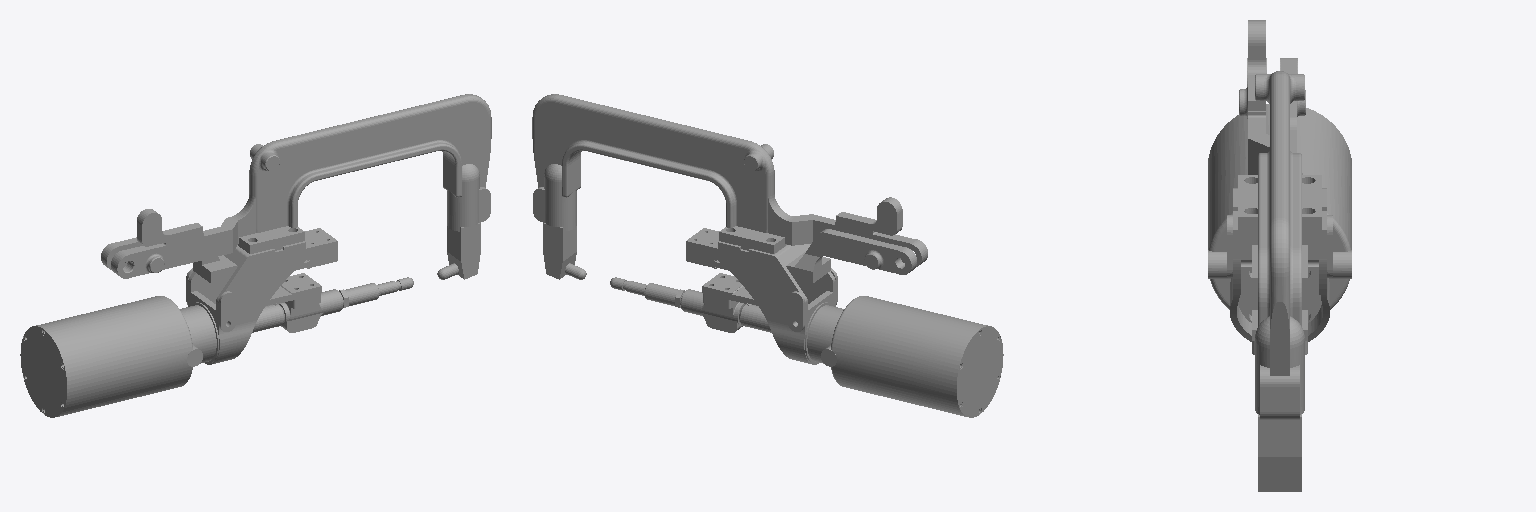
robot.urdf — robot:
<robot name="">
	<link name="base_link">
		<inertial>
			<origin rpy="0.00000 -0.00000 0.00000" xyz="0.00000 0.00000 0.00000" />
			<mass value="1.00000" />
			<inertia ixx="0.03922" ixy="0" ixz="0" iyy="0.07568" iyz="0" izz="0.10640" />
		</inertial>
		<visual>
			<origin rpy="0.00000 -0.00000 0.00000" xyz="0.00000 0.00000 0.00000" />
			<geometry>
				<mesh filename="rlbotics/envs/models/robots/abb/irb4400/meshes/irb4400l_30_243/visual/base_link.stl" scale="1.00000 1.00000 1.00000" />
			</geometry>
			<material name="0">
				<color rgba="0.18824 0.19608 0.20392 1.00000" />
			</material>
		</visual>
		<collision>
			<origin rpy="0.00000 -0.00000 0.00000" xyz="0.00000 0.00000 0.00000" />
			<geometry>
				<mesh filename="rlbotics/envs/models/robots/abb/irb4400/meshes/irb4400l_30_243/collision/base_link.stl" scale="1.00000 1.00000 1.00000" />
			</geometry>
		</collision>
	</link>
	<link name="link_1">
		<inertial>
			<origin rpy="0.00000 -0.00000 0.00000" xyz="0.00000 0.00000 0.00000" />
			<mass value="1.00000" />
			<inertia ixx="0.12077" ixy="0" ixz="0" iyy="0.12169" iyz="0" izz="0.15600" />
		</inertial>
		<visual>
			<origin rpy="0.00000 -0.00000 0.00000" xyz="0.00000 0.00000 0.00000" />
			<geometry>
				<mesh filename="rlbotics/envs/models/robots/abb/irb4400/meshes/irb4400l_30_243/visual/link_1.stl" scale="1.00000 1.00000 1.00000" />
			</geometry>
			<material name="1">
				<color rgba="0.73725 0.34902 0.16078 1.00000" />
			</material>
		</visual>
		<collision>
			<origin rpy="0.00000 -0.00000 0.00000" xyz="0.00000 0.00000 0.00000" />
			<geometry>
				<mesh filename="rlbotics/envs/models/robots/abb/irb4400/meshes/irb4400l_30_243/collision/link_1.stl" scale="1.00000 1.00000 1.00000" />
			</geometry>
		</collision>
	</link>
	<link name="link_2">
		<inertial>
			<origin rpy="0.00000 -0.00000 0.00000" xyz="0.00000 0.00000 0.00000" />
			<mass value="1.00000" />
			<inertia ixx="0.11062" ixy="0" ixz="0" iyy="0.11480" iyz="0" izz="0.01469" />
		</inertial>
		<visual>
			<origin rpy="0.00000 -0.00000 0.00000" xyz="0.00000 0.00000 0.00000" />
			<geometry>
				<mesh filename="rlbotics/envs/models/robots/abb/irb4400/meshes/irb4400l_30_243/visual/link_2.stl" scale="1.00000 1.00000 1.00000" />
			</geometry>
			<material name="2">
				<color rgba="0.73725 0.34902 0.16078 1.00000" />
			</material>
		</visual>
		<collision>
			<origin rpy="0.00000 -0.00000 0.00000" xyz="0.00000 0.00000 0.00000" />
			<geometry>
				<mesh filename="rlbotics/envs/models/robots/abb/irb4400/meshes/irb4400l_30_243/collision/link_2.stl" scale="1.00000 1.00000 1.00000" />
			</geometry>
		</collision>
	</link>
	<link name="link_3">
		<inertial>
			<origin rpy="0.00000 -0.00000 0.00000" xyz="0.00000 0.00000 0.00000" />
			<mass value="1.00000" />
			<inertia ixx="0.02480" ixy="0" ixz="0" iyy="0.05612" iyz="0" izz="0.05646" />
		</inertial>
		<visual>
			<origin rpy="0.00000 -0.00000 0.00000" xyz="0.00000 0.00000 0.00000" />
			<geometry>
				<mesh filename="rlbotics/envs/models/robots/abb/irb4400/meshes/irb4400l_30_243/visual/link_3.stl" scale="1.00000 1.00000 1.00000" />
			</geometry>
			<material name="3">
				<color rgba="0.73725 0.34902 0.16078 1.00000" />
			</material>
		</visual>
		<collision>
			<origin rpy="0.00000 -0.00000 0.00000" xyz="0.00000 0.00000 0.00000" />
			<geometry>
				<mesh filename="rlbotics/envs/models/robots/abb/irb4400/meshes/irb4400l_30_243/collision/link_3.stl" scale="1.00000 1.00000 1.00000" />
			</geometry>
		</collision>
	</link>
	<link name="link_4">
		<inertial>
			<origin rpy="0.00000 -0.00000 0.00000" xyz="0.00000 0.00000 0.00000" />
			<mass value="1.00000" />
			<inertia ixx="0.01045" ixy="0" ixz="0" iyy="0.13699" iyz="0" izz="0.13770" />
		</inertial>
		<visual>
			<origin rpy="0.00000 -0.00000 0.00000" xyz="0.00000 0.00000 0.00000" />
			<geometry>
				<mesh filename="rlbotics/envs/models/robots/abb/irb4400/meshes/irb4400l_30_243/visual/link_4.stl" scale="1.00000 1.00000 1.00000" />
			</geometry>
			<material name="4">
				<color rgba="0.73725 0.34902 0.16078 1.00000" />
			</material>
		</visual>
		<collision>
			<origin rpy="0.00000 -0.00000 0.00000" xyz="0.00000 0.00000 0.00000" />
			<geometry>
				<mesh filename="rlbotics/envs/models/robots/abb/irb4400/meshes/irb4400l_30_243/collision/link_4.stl" scale="1.00000 1.00000 1.00000" />
			</geometry>
		</collision>
	</link>
	<link name="link_5">
		<inertial>
			<origin rpy="0.00000 -0.00000 0.00000" xyz="0.00000 0.00000 0.00000" />
			<mass value="1.00000" />
			<inertia ixx="0.00255" ixy="0" ixz="0" iyy="0.00530" iyz="0" izz="0.00362" />
		</inertial>
		<visual>
			<origin rpy="0.00000 -0.00000 0.00000" xyz="0.00000 0.00000 0.00000" />
			<geometry>
				<mesh filename="rlbotics/envs/models/robots/abb/irb4400/meshes/irb4400l_30_243/visual/link_5.stl" scale="1.00000 1.00000 1.00000" />
			</geometry>
			<material name="5">
				<color rgba="0.73725 0.34902 0.16078 1.00000" />
			</material>
		</visual>
		<collision>
			<origin rpy="0.00000 -0.00000 0.00000" xyz="0.00000 0.00000 0.00000" />
			<geometry>
				<mesh filename="rlbotics/envs/models/robots/abb/irb4400/meshes/irb4400l_30_243/collision/link_5.stl" scale="1.00000 1.00000 1.00000" />
			</geometry>
		</collision>
	</link>
	<link name="link_6">
		<inertial>
			<origin rpy="0.00000 -0.00000 0.00000" xyz="0.00000 0.00000 0.00000" />
			<mass value="1.00000" />
			<inertia ixx="0.00313" ixy="0" ixz="0" iyy="0.00524" iyz="0" izz="0.00536" />
		</inertial>
		<visual>
			<origin rpy="0.00000 -0.00000 0.00000" xyz="0.00000 0.00000 0.00000" />
			<geometry>
				<mesh filename="rlbotics/envs/models/robots/abb/irb4400/meshes/irb4400l_30_243/visual/link_6.stl" scale="1.00000 1.00000 1.00000" />
			</geometry>
			<material name="6">
				<color rgba="0.18824 0.19608 0.20392 1.00000" />
			</material>
		</visual>
		<collision>
			<origin rpy="0.00000 -0.00000 0.00000" xyz="0.00000 0.00000 0.00000" />
			<geometry>
				<mesh filename="rlbotics/envs/models/robots/abb/irb4400/meshes/irb4400l_30_243/collision/link_6.stl" scale="1.00000 1.00000 1.00000" />
			</geometry>
		</collision>
	</link>
	<link name="tool0">
		<inertial>
			<origin rpy="0.00000 -0.00000 0.00000" xyz="0.00000 0.00000 0.00000" />
			<mass value="1.00000" />
			<inertia ixx="0.00000" ixy="0" ixz="0" iyy="0.00000" iyz="0" izz="0.00000" />
		</inertial>
	</link>
	<link name="base">
		<inertial>
			<origin rpy="0.00000 -0.00000 0.00000" xyz="0.00000 0.00000 0.00000" />
			<mass value="1.00000" />
			<inertia ixx="0.00000" ixy="0" ixz="0" iyy="0.00000" iyz="0" izz="0.00000" />
		</inertial>
	</link>
	<link name="root">
		<inertial>
			<origin rpy="0.00000 -0.00000 0.00000" xyz="0.50570 -0.00054 0.18351" />
			<mass value="2.00000" />
			<inertia ixx="0.02909" ixy="0" ixz="0" iyy="0.13991" iyz="0" izz="0.11897" />
		</inertial>
		<visual>
			<origin rpy="0.00000 -0.00000 0.00000" xyz="0.39949 0.00000 0.14487" />
			<geometry>
				<mesh filename="rlbotics/envs/models/end_effectors/welding/spot_welding_gun/meshes/stl/RFC-22-G01 v2.stl" scale="0.00116 0.00116 0.00116" />
			</geometry>
			<material name="7">
				<color rgba="0.67059 0.67059 0.67059 1.00000" />
			</material>
		</visual>
		<collision>
			<origin rpy="0.00000 -0.00000 0.00000" xyz="0.39946 -0.00043 0.14496" />
			<geometry>
				<mesh filename="rlbotics/envs/models/end_effectors/welding/spot_welding_gun/meshes/stl/RFC-22-G01 v2.001.stl" scale="0.78991 0.78991 0.78991" />
			</geometry>
		</collision>
	</link>
	<link name="ee_joint_arm">
		<inertial>
			<origin rpy="0.00000 -0.00000 0.00000" xyz="0.00000 0.00000 0.00000" />
			<mass value="0.00100" />
			<inertia ixx="0.00000" ixy="0" ixz="0" iyy="0.00000" iyz="0" izz="0.00000" />
		</inertial>
	</link>
	<link name="nozzle_tip">
		<inertial>
			<origin rpy="0.00000 -0.00000 0.00000" xyz="0.00000 0.00000 0.00000" />
			<mass value="0.00100" />
			<inertia ixx="0.00000" ixy="0" ixz="0" iyy="0.00000" iyz="0" izz="0.00000" />
		</inertial>
	</link>
	<joint name="joint_1" type="revolute">
		<parent link="base_link" />
		<child link="link_1" />
		<dynamics damping="0.0" friction="0.0" />
		<origin rpy="0.00000 -0.00000 0.00000" xyz="0.00000 0.00000 0.00000" />
		<axis xyz="0.00000 0.00000 1.00000" />
	<limit effort="0.0" lower="-2.87979" upper="2.87979" velocity="2.618" /></joint>
	<joint name="joint_2" type="revolute">
		<parent link="link_1" />
		<child link="link_2" />
		<dynamics damping="0.0" friction="0.0" />
		<origin rpy="0.00000 -0.00000 0.00000" xyz="0.20000 0.00000 0.68000" />
		<axis xyz="0.00000 1.00000 0.00000" />
	<limit effort="0.0" lower="-1.2217" upper="1.658" velocity="2.0944" /></joint>
	<joint name="joint_3" type="revolute">
		<parent link="link_2" />
		<child link="link_3" />
		<dynamics damping="0.0" friction="0.0" />
		<origin rpy="0.00000 -0.00000 0.00000" xyz="0.00000 0.00000 0.89000" />
		<axis xyz="0.00000 1.00000 0.00000" />
	<limit effort="0.0" lower="-1.0472" upper="1.1345" velocity="2.0944" /></joint>
	<joint name="joint_4" type="revolute">
		<parent link="link_3" />
		<child link="link_4" />
		<dynamics damping="0.0" friction="0.0" />
		<origin rpy="0.00000 -0.00000 0.00000" xyz="1.38000 0.00000 0.15000" />
		<axis xyz="1.00000 0.00000 0.00000" />
	<limit effort="0.0" lower="-3.49" upper="3.49" velocity="3.927" /></joint>
	<joint name="joint_5" type="revolute">
		<parent link="link_4" />
		<child link="link_5" />
		<dynamics damping="0.0" friction="0.0" />
		<origin rpy="0.00000 -0.00000 0.00000" xyz="0.00000 0.00000 0.00000" />
		<axis xyz="0.00000 1.00000 0.00000" />
	<limit effort="0.0" lower="-2.0944" upper="2.0944" velocity="4.3633" /></joint>
	<joint name="joint_6" type="revolute">
		<parent link="link_5" />
		<child link="link_6" />
		<dynamics damping="0.0" friction="0.0" />
		<origin rpy="0.00000 -0.00000 0.00000" xyz="0.00000 0.00000 0.00000" />
		<axis xyz="1.00000 0.00000 0.00000" />
	<limit effort="0.0" lower="-6.9813" upper="6.9813" velocity="5.7596" /></joint>
	<joint name="joint_6-tool0" type="fixed">
		<parent link="link_6" />
		<child link="tool0" />
		<dynamics damping="1.0" friction="0.0001" />
		<origin rpy="0.00000 -0.00000 0.00000" xyz="0.14000 0.00000 0.00000" />
		<axis xyz="0.00000 0.00000 0.00000" />
	</joint>
	<joint name="base_link-base" type="fixed">
		<parent link="base_link" />
		<child link="base" />
		<dynamics damping="1.0" friction="0.0001" />
		<origin rpy="0.00000 -0.00000 0.00000" xyz="0.00000 0.00000 0.00000" />
		<axis xyz="0.00000 0.00000 0.00000" />
	</joint>
	<joint name="joint_dummy1" type="fixed">
		<parent link="link_6" />
		<child link="root" />
		<dynamics damping="1.0" friction="0.0001" />
		<origin rpy="0.00000 0.00000 0.00000" xyz="0.00000 0.00000 0.00000" />
		<axis xyz="0.00000 0.00000 1.00000" />
	</joint>
	<joint name="ee_joint_arm" type="fixed">
		<parent link="root" />
		<child link="ee_joint_arm" />
		<dynamics damping="1.0" friction="0.0001" />
		<origin rpy="0.00000 1.57080 -0.00000" xyz="-0.00372 -0.00266 0.00071" />
		<axis xyz="0.00000 0.00000 0.00000" />
	</joint>
	<joint name="nozzle_tip" type="fixed">
		<parent link="root" />
		<child link="nozzle_tip" />
		<dynamics damping="1.0" friction="0.0001" />
		<origin rpy="0.00000 1.57080 -0.00000" xyz="0.67936 0.00000 0.00043" />
		<axis xyz="0.00000 0.00000 0.00000" />
	</joint>
</robot>

--- Facts derived from the render (not from the file) ---
The picture shows the robot from 3 angles, left to right: view 1: azimuth 30°, elevation 25°; view 2: azimuth 150°, elevation 25°; view 3: azimuth 270°, elevation 25°; orthographic projection.
Robot: robot — 12 links, 11 joints (6 revolute, 5 fixed); root link base_link; default pose: all joints at 0.
Links seen in each view (by area): view 1: root; view 2: root; view 3: root.
Boxes of the visible links, x1,y1,x2,y2 form: root: (20, 94, 491, 417); root: (532, 94, 1003, 417); root: (1208, 20, 1351, 491).
Size in the robot's own frame: 0.8271 by 0.1508 by 0.3828 metres.
1 mesh visuals loaded from 8 distinct referenced files (1 binary STL); not drawn: 7 (reference not matched to a file when rendering).